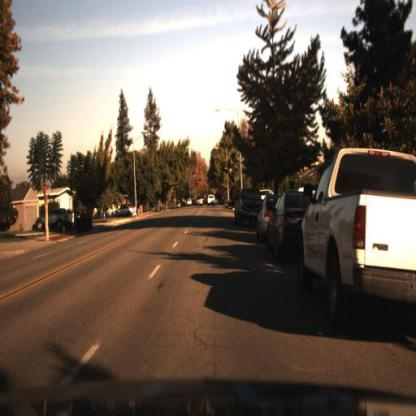car: (297, 148, 416, 333), (267, 194, 315, 262), (253, 190, 278, 247), (31, 207, 77, 236), (234, 186, 264, 228), (35, 209, 73, 231), (114, 202, 137, 219)
